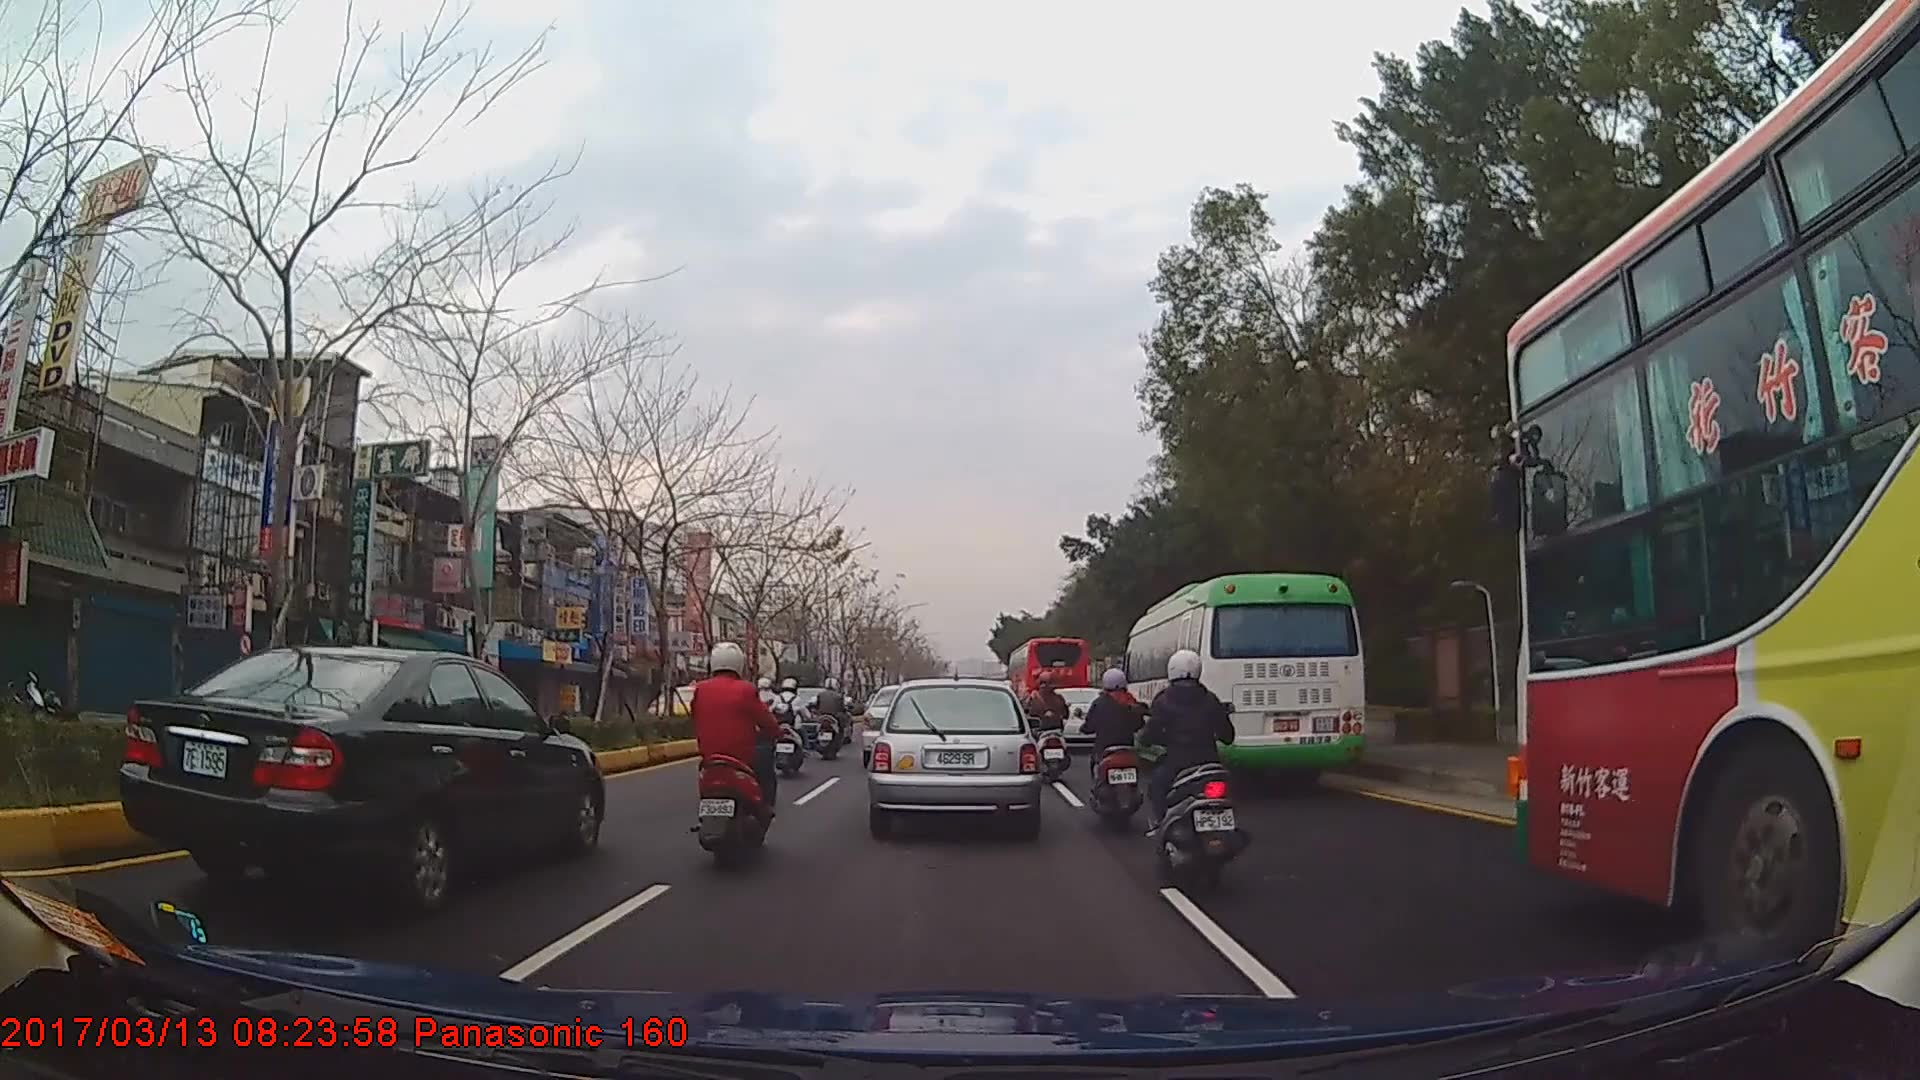rider: (1142, 648, 1253, 896), (681, 638, 776, 871), (1078, 664, 1150, 831), (1028, 668, 1072, 786), (770, 676, 813, 778), (816, 677, 855, 759), (749, 675, 790, 746)
vehicle: (1504, 0, 1920, 978), (112, 641, 605, 907), (1119, 573, 1365, 787), (866, 677, 1036, 834), (1006, 634, 1089, 729)
